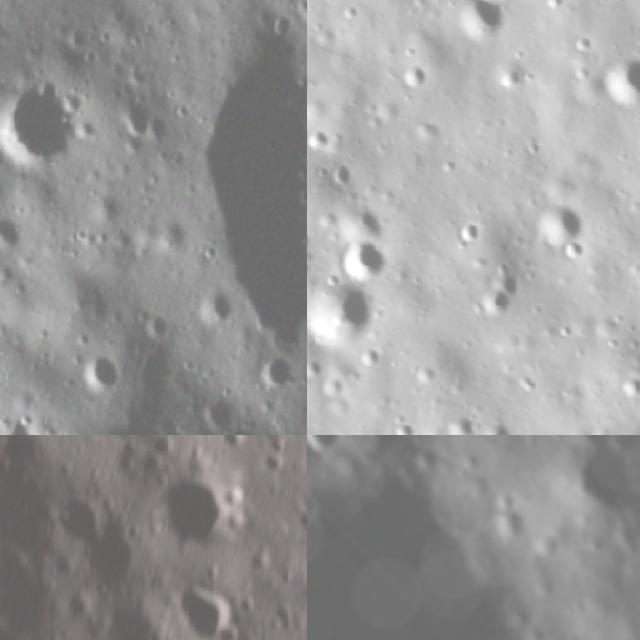crater: (307, 435, 634, 640), (537, 435, 640, 565), (47, 492, 133, 590), (0, 69, 81, 168), (156, 483, 235, 552), (159, 580, 239, 640), (307, 277, 374, 346), (593, 47, 640, 107), (532, 192, 586, 244), (116, 82, 156, 147), (454, 0, 513, 44), (338, 233, 393, 279), (80, 351, 128, 396), (197, 283, 238, 329), (148, 216, 196, 254), (197, 391, 237, 435), (258, 352, 298, 392), (307, 435, 352, 469), (0, 207, 32, 252), (94, 187, 125, 228), (496, 62, 529, 96), (402, 59, 434, 92), (0, 409, 40, 435), (439, 410, 479, 435), (614, 370, 640, 401), (458, 221, 482, 248), (489, 417, 521, 435), (389, 413, 415, 435), (307, 95, 315, 129)
